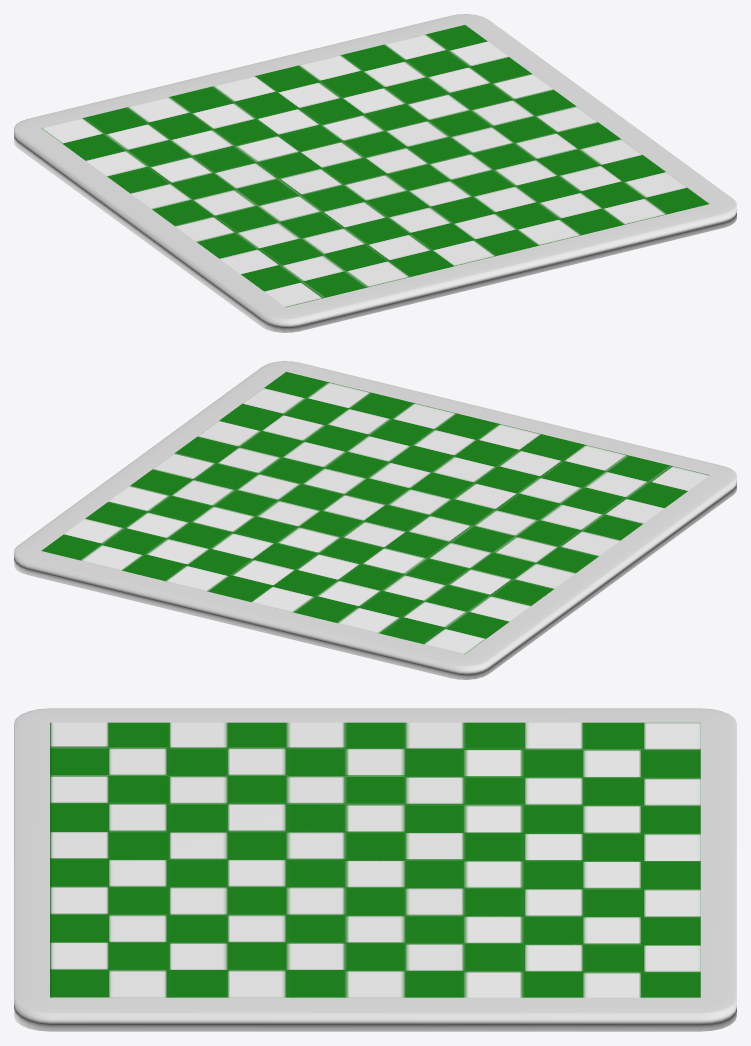
The model's file is Board.fbx.
The picture shows the model from 3 angles, top to bottom: view 1: azimuth 30°, elevation 25°; view 2: azimuth 150°, elevation 25°; view 3: azimuth 270°, elevation 25°; orthographic projection. The views are drawn at different scales.
Visible parts, largest first — view 1: Board; view 2: Board; view 3: Board.
Part boxes in pixels (x1,y1,x2,y2): Board: (14, 14, 736, 332); Board: (14, 361, 736, 679); Board: (14, 708, 736, 1031).
Bounding box in the file's own units: 771 × 23.12 × 771.
